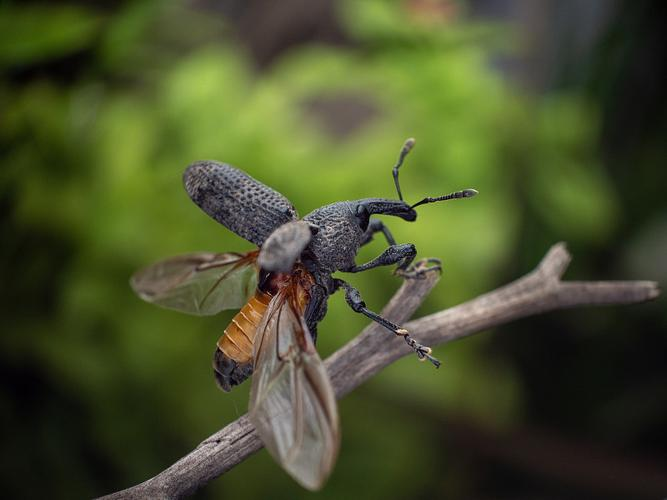Curculionidae: (128, 137, 479, 494)
